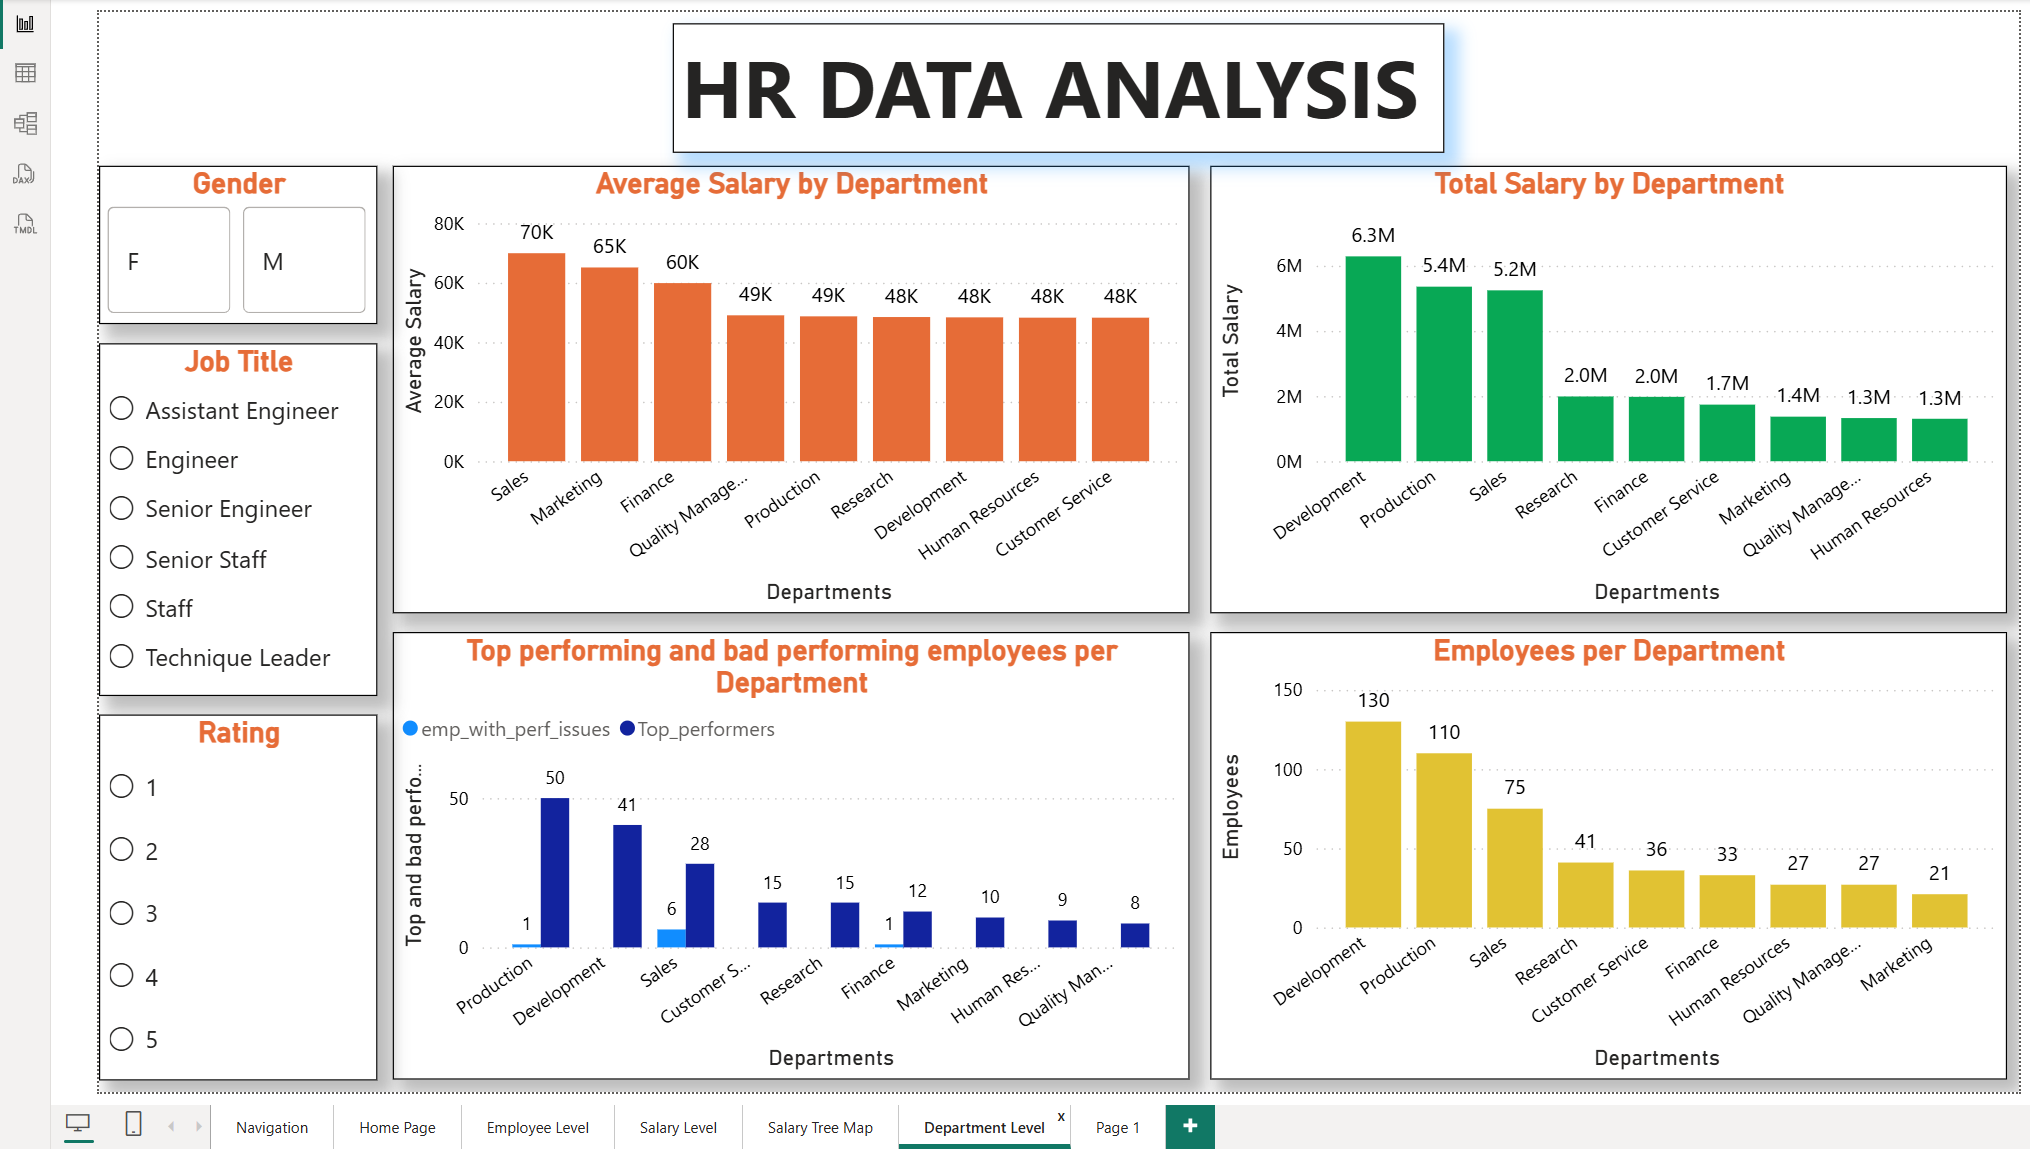

Layout of this report page (visuals, bound fields, positions):
{"tool":"powerbi","page":{"name":"Department Level","canvas":[1280,720],"ordinal":5},"visuals":[{"type":"clusteredColumnChart","title":"Average Salary by Department","fields":{"Category":["Dept_Info.Dep_Name"],"Y":["Emp_Info.Average_Salary"]},"box":[195.5,102.7,530.9,298.2],"z":0},{"type":"clusteredColumnChart","title":"Total Salary by Department","fields":{"Category":["Dept_Info.Dep_Name"],"Y":["Emp_Info.Total_Salary"]},"box":[740.9,102.7,530.9,298.2],"z":1000},{"type":"clusteredColumnChart","title":"Top performing and bad performing employees per Department","fields":{"Category":["Dept_Info.Dep_Name"],"Y":["Emp_Info.emp_with_perf_issues","Emp_Info.Top_performers"]},"box":[195.5,413.6,530.9,298.2],"z":2000},{"type":"clusteredColumnChart","title":"Employees per Department","fields":{"Category":["Dept_Info.Dep_Name"],"Y":["CountNonNull(Emp_Info.Emp_Id)"]},"box":[740.9,413.6,530.9,298.2],"z":3000},{"type":"textbox","box":[382.7,7.3,514.5,86.4],"z":4000},{"type":"advancedSlicerVisual","fields":{"Values":["Emp_Info.Gender"]},"box":[0,102.7,185.5,105.5],"z":5000},{"type":"listSlicer","title":"Job Title","fields":{"Values":["Emp_Info.Title"]},"box":[0,220.9,185.5,235.5],"z":6000},{"type":"listSlicer","fields":{"Values":["Emp_Info.Rating"]},"box":[0,468.2,185.5,243.6],"z":7000}]}

Visuals, with their boxes in screenshot pixels (x1, y1, x2, y2):
"Average Salary by Department" clusteredColumnChart: left=385, top=160, right=1186, bottom=610
"Total Salary by Department" clusteredColumnChart: left=1208, top=160, right=2008, bottom=610
"Top performing and bad performing employees per Department" clusteredColumnChart: left=385, top=629, right=1186, bottom=1079
"Employees per Department" clusteredColumnChart: left=1208, top=629, right=2008, bottom=1079
textbox: left=667, top=16, right=1443, bottom=147
advancedSlicerVisual - Emp_Info.Gender: left=90, top=160, right=370, bottom=319
"Job Title" listSlicer: left=90, top=339, right=370, bottom=694
listSlicer - Emp_Info.Rating: left=90, top=712, right=370, bottom=1079
